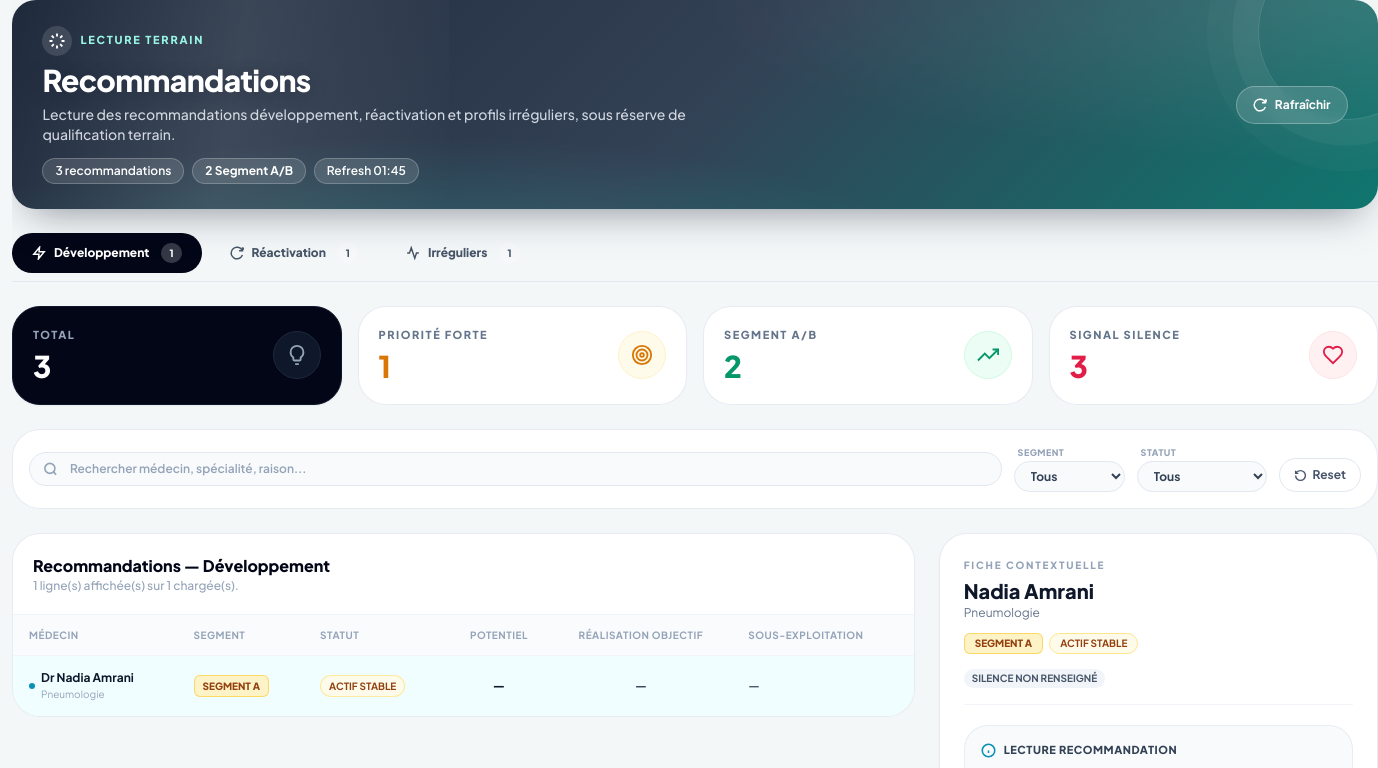
Test case: RecommandationsPage › exposes the three document lists and creates an action from the selected recommendation
Expected: the button "Développement 1" is shown, [12, 233, 202, 273]
Expected: the button "Irréguliers 1" is shown, [386, 233, 540, 273]
Click the button "Réactivation 1". click: coordinates (294, 253)
box: [210, 233, 378, 273]
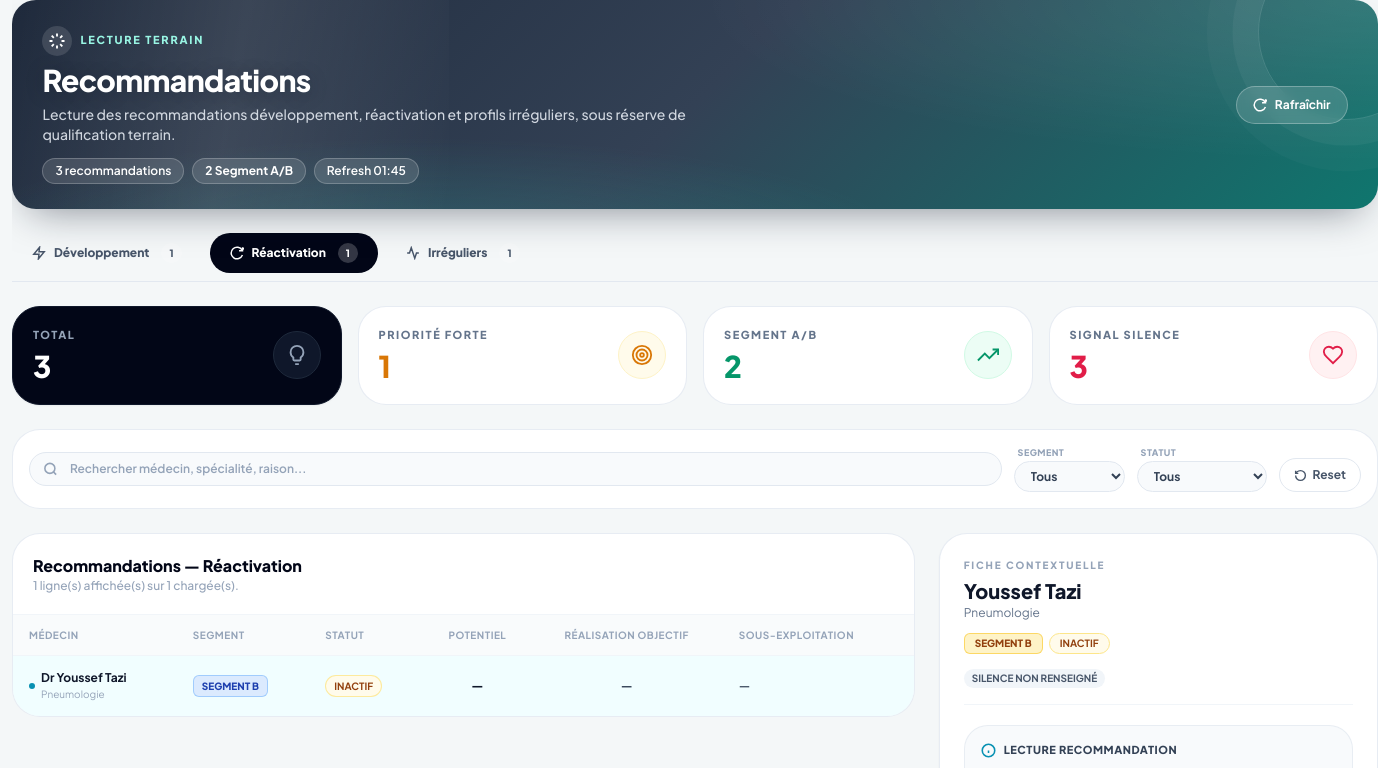
Expected: the heading "Youssef Tazi" is shown, [964, 578, 1082, 603]
Click the button "Irréguliers 1". click: coordinates (463, 253)
box: [386, 233, 540, 273]
(page scrolled)
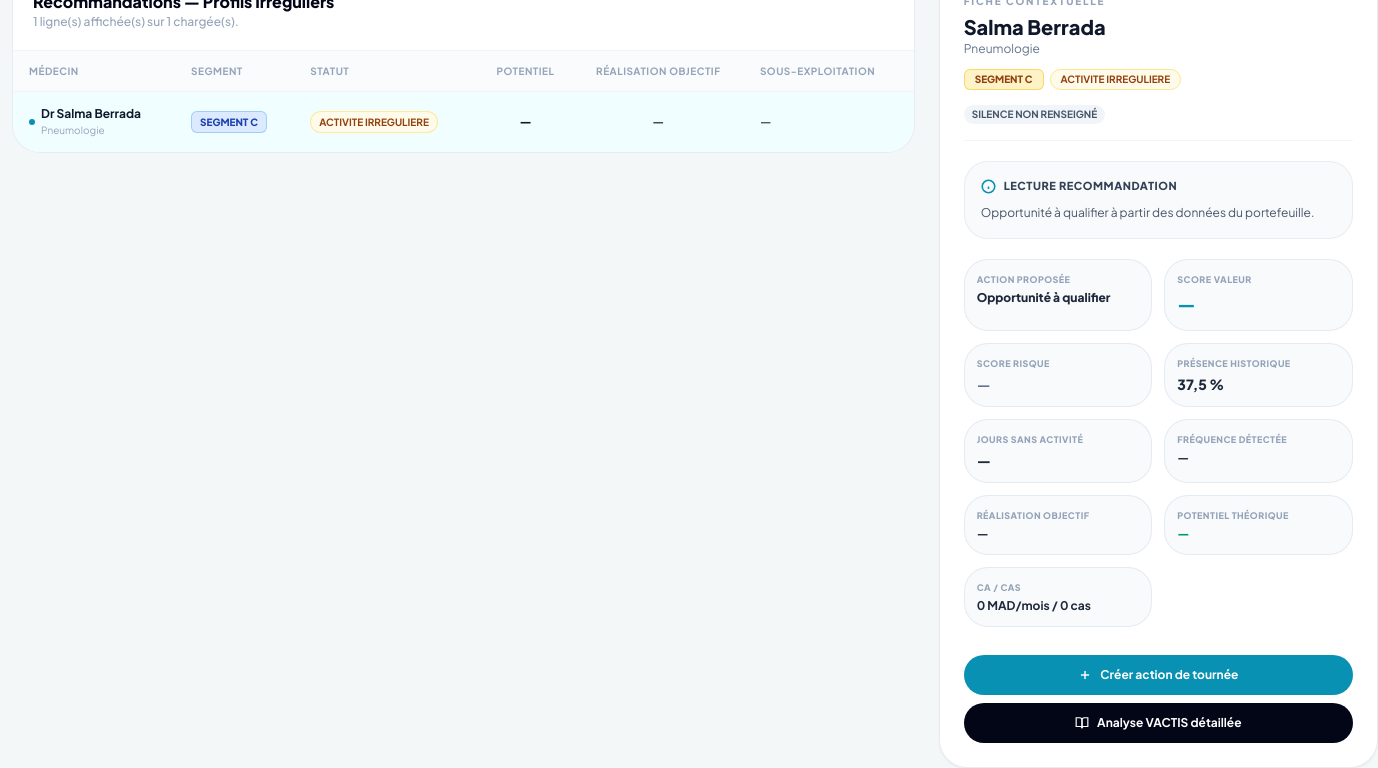
Expected: the heading "Salma Berrada" is shown, [964, 14, 1106, 39]
Expected: the text "37,5 %" is shown, [1177, 375, 1224, 393]
